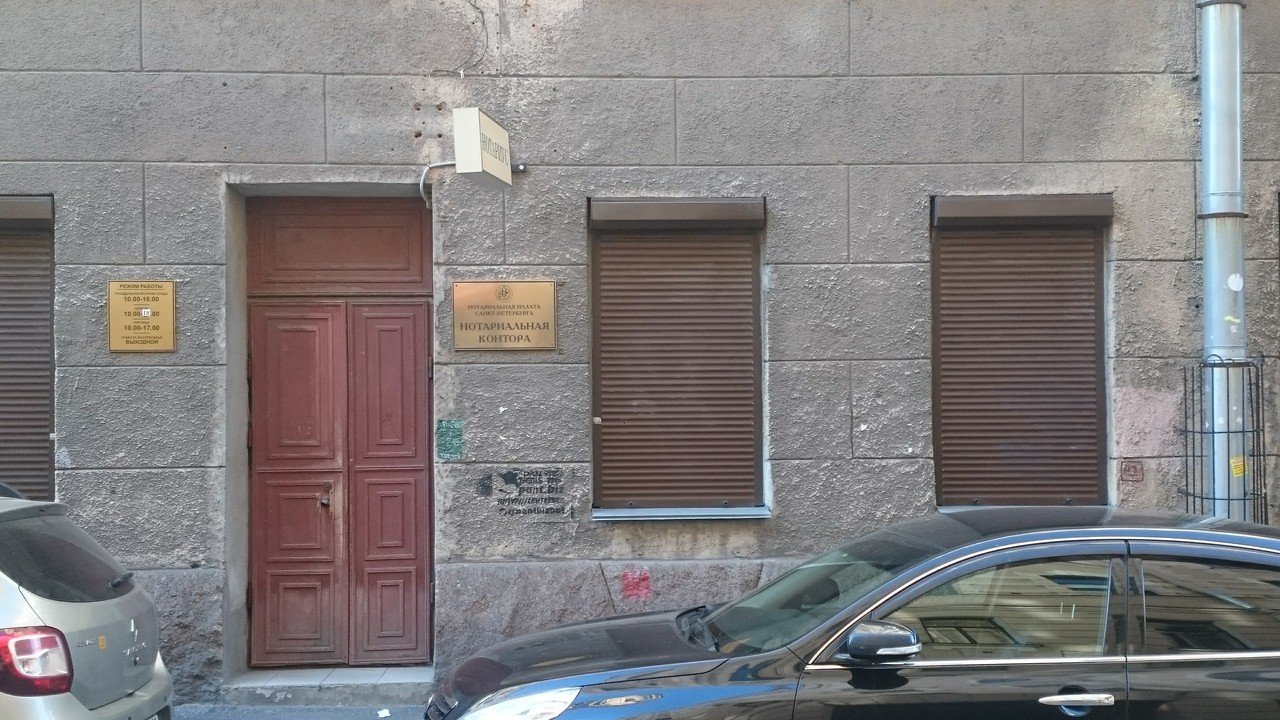cantilever: (452, 107, 517, 187)
door: (250, 297, 429, 666)
window: (933, 219, 1106, 509), (591, 221, 757, 512)
